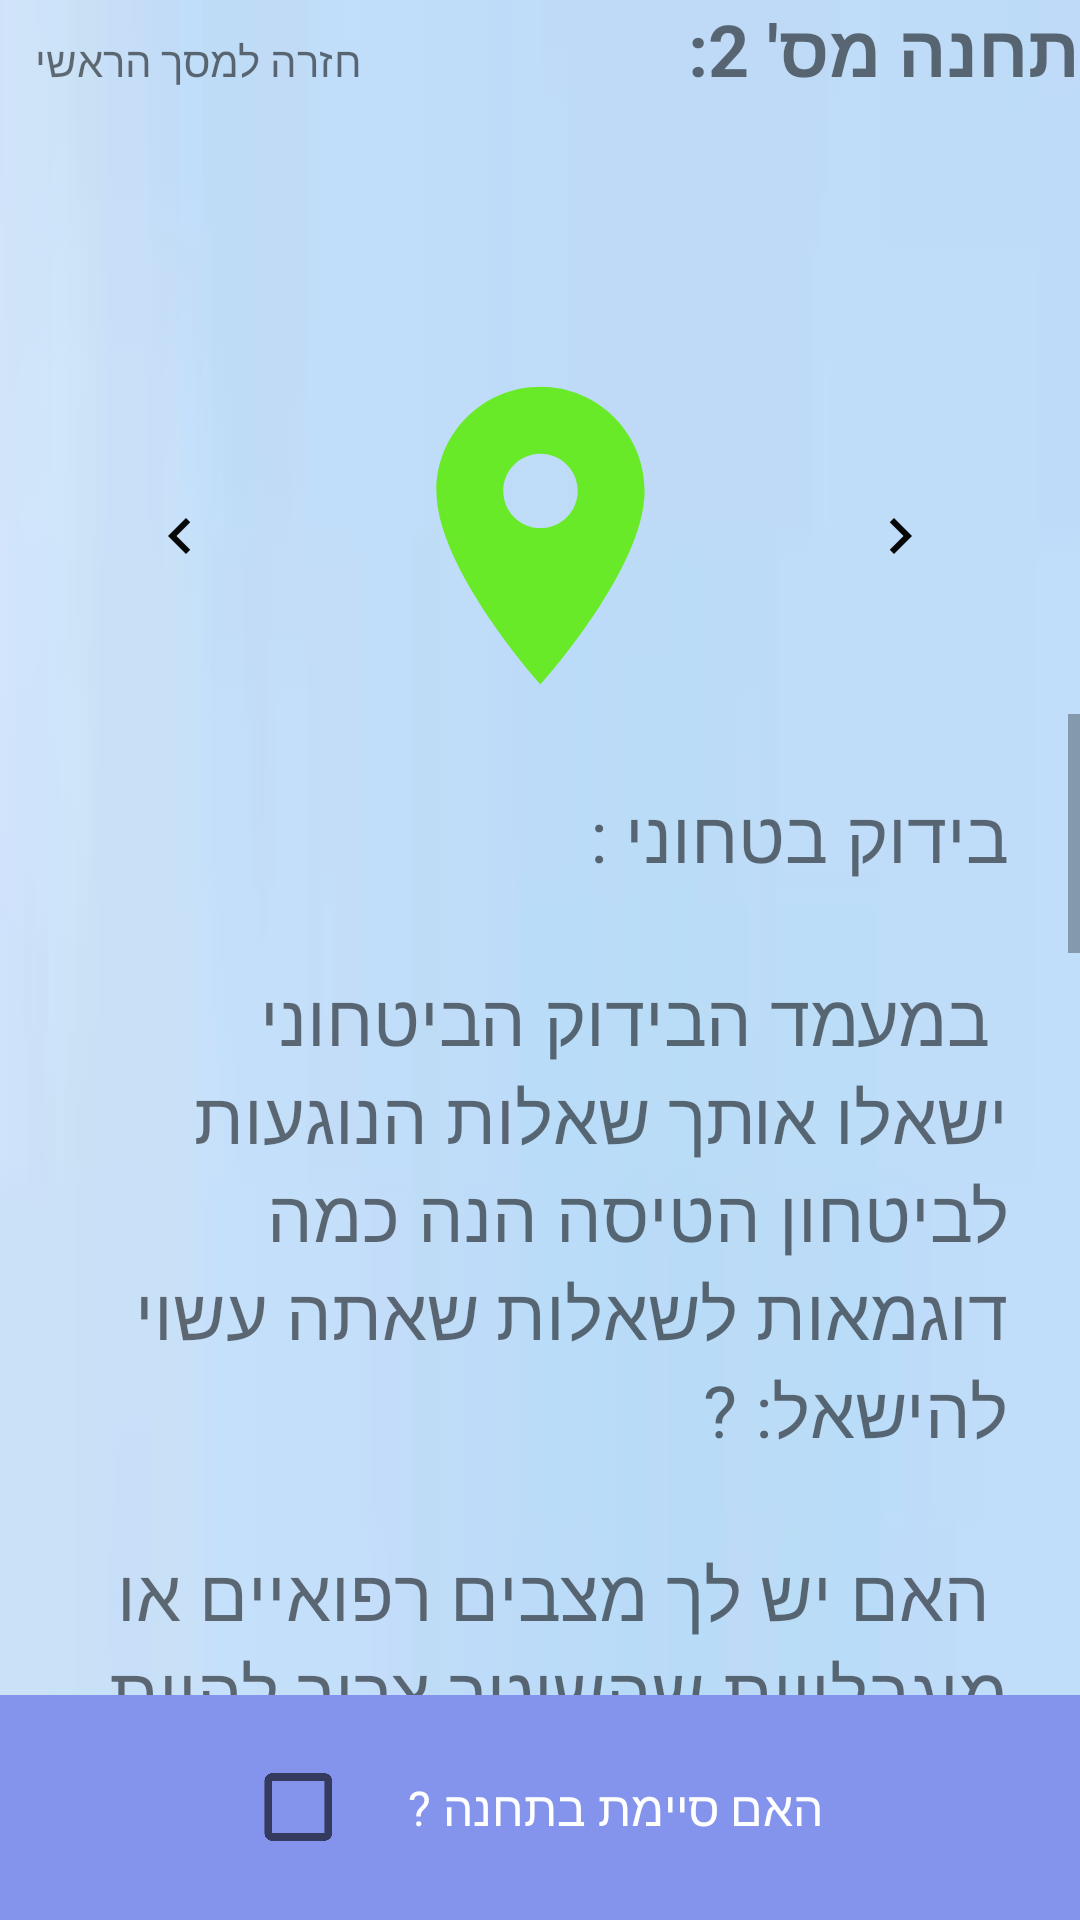

Screen size 1080x1920. Icon name, then its box in pixels as (x1, y1, x2, y2):
loc: (436, 386, 645, 684)
navnext: (890, 518, 912, 554)
